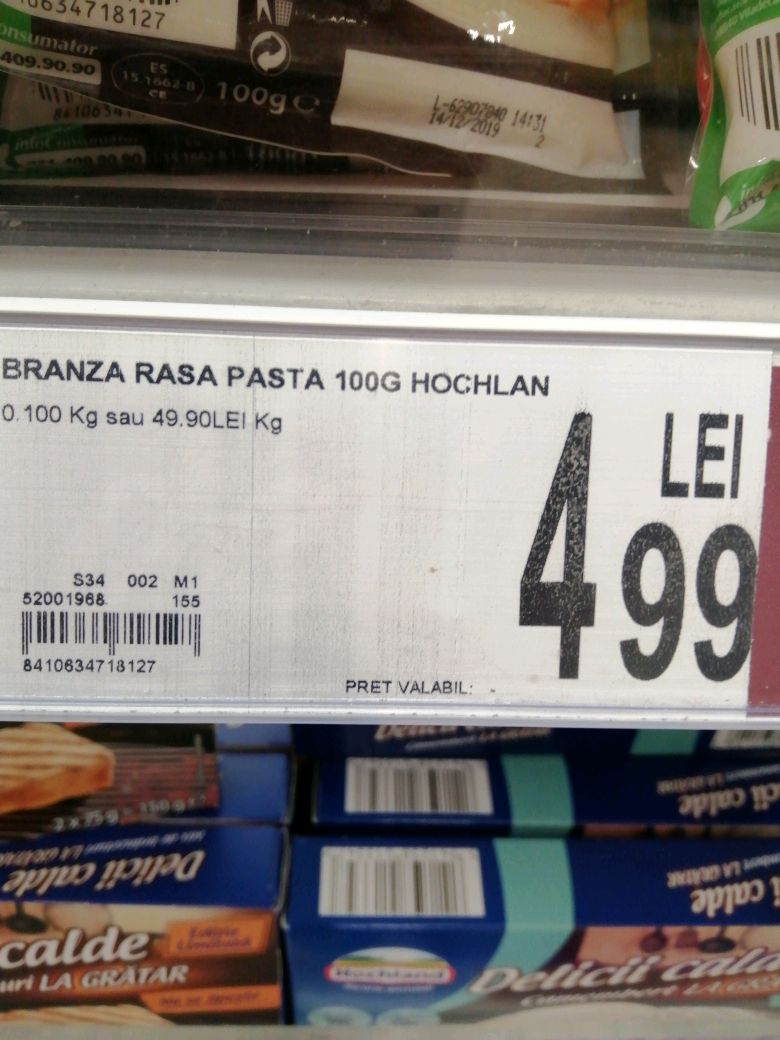price_bani: (613, 513, 771, 689)
price_lei: (506, 401, 606, 691)
price_tag: (1, 326, 778, 743)
product_id: (17, 656, 169, 679)
product_name: (4, 349, 567, 402)
